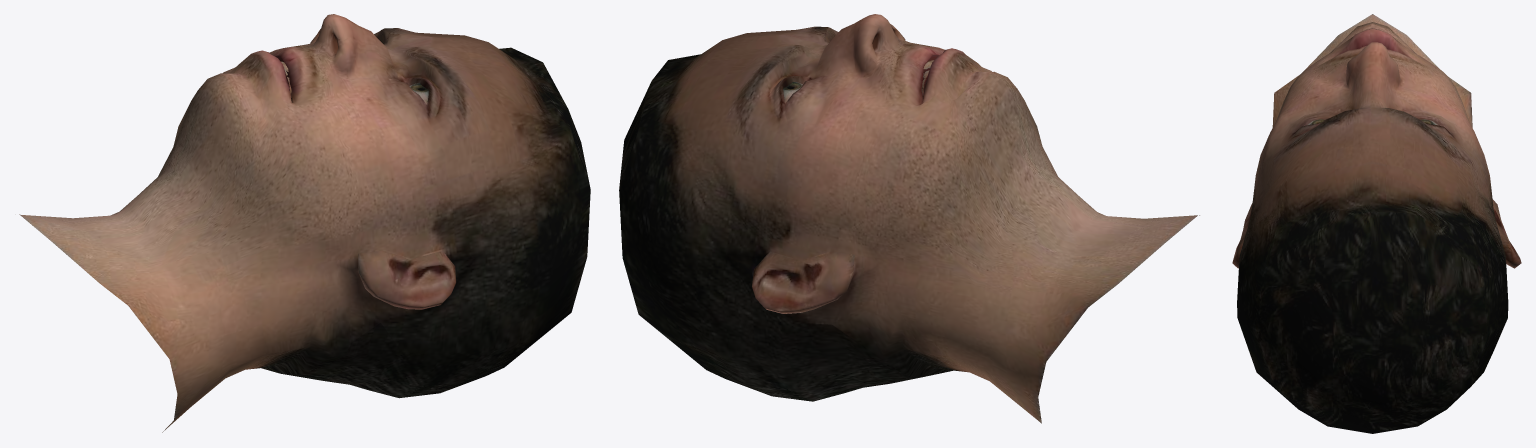
File: head_us_ranger_frank_low.glb
3 renders of one model, left to right at view 1: azimuth 30°, elevation 25°; view 2: azimuth 150°, elevation 25°; view 3: azimuth 270°, elevation 25°, orthographic. The views are drawn at different scales.
Size of the model in its own units: 14.92 by 10.09 by 7.72.
1 material, 1 textured.
